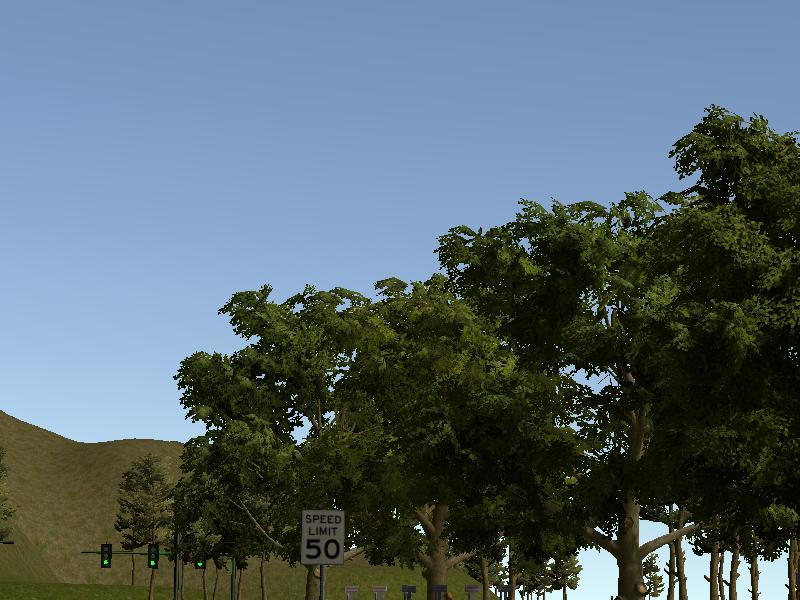Green: (100, 545, 112, 567), (148, 546, 159, 568)
